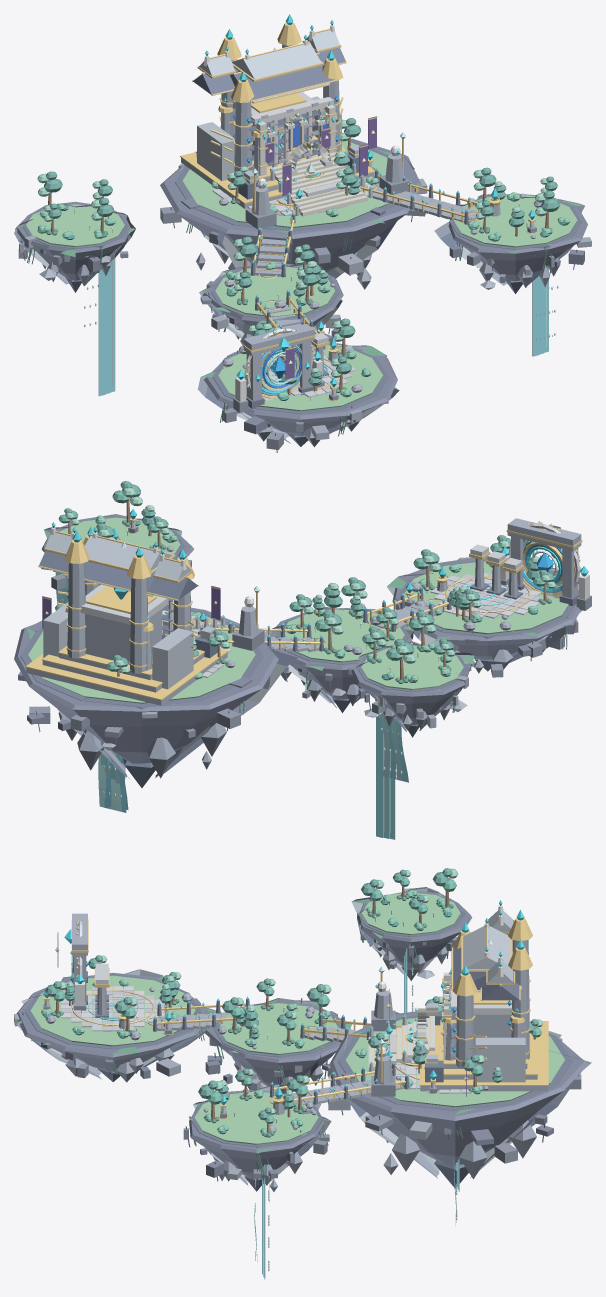
Rendered from SkyGarden_V3_Yup_Mobile.glb.
3 views of the same model, one above another, from view 1: azimuth 30°, elevation 25°; view 2: azimuth 150°, elevation 25°; view 3: azimuth 270°, elevation 25° (orthographic). The views are drawn at different scales.
Visible parts, largest first — view 1: V3_rock, V3_grass, V3_stone, V3_gold, V3_V3_weathered_stone, V3_stone_dark, V3_leaf, V3_V3_pale_travertine, V3_rock_light, V3_water, V3_sandstone_dark, V3_V3_shadow_mortar (+14 smaller); view 2: V3_rock, V3_stone, V3_grass, V3_gold, V3_V3_weathered_stone, V3_stone_dark, V3_V3_cliff_strata, V3_leaf, V3_sandstone_dark, V3_leaf_light, V3_water, V3_stone_light (+18 smaller); view 3: V3_rock, V3_grass, V3_stone, V3_gold, V3_stone_dark, V3_V3_weathered_stone, V3_V3_cliff_strata, V3_leaf, V3_sandstone_dark, V3_rock_light, V3_V3_cliff_depth, V3_stone_light (+14 smaller).
Part boxes in pixels (x1,y1,x2,y2): V3_rock: (15, 138, 587, 436); V3_grass: (26, 141, 577, 411); V3_stone: (181, 44, 500, 400); V3_gold: (180, 22, 537, 401); V3_V3_weathered_stone: (197, 30, 372, 215); V3_stone_dark: (21, 139, 581, 452); V3_leaf: (44, 118, 559, 385); V3_V3_pale_travertine: (71, 25, 542, 397); V3_rock_light: (18, 163, 591, 440); V3_water: (98, 258, 548, 396); V3_sandstone_dark: (40, 167, 554, 449); V3_V3_shadow_mortar: (193, 47, 345, 170); V3_rock: (14, 514, 580, 763); V3_stone: (26, 518, 581, 705); V3_grass: (28, 517, 568, 703); V3_gold: (25, 518, 582, 700); V3_V3_weathered_stone: (43, 532, 225, 689); V3_stone_dark: (20, 517, 578, 742); V3_V3_cliff_strata: (44, 518, 565, 778); V3_leaf: (55, 481, 554, 667); V3_sandstone_dark: (29, 526, 591, 738); V3_leaf_light: (65, 487, 555, 673); V3_water: (61, 573, 408, 839); V3_stone_light: (80, 521, 535, 677); V3_rock: (16, 891, 588, 1178); V3_grass: (30, 892, 564, 1144); V3_stone: (72, 913, 547, 1114); V3_gold: (41, 918, 548, 1118); V3_stone_dark: (22, 893, 572, 1185); V3_V3_weathered_stone: (369, 911, 525, 1082); V3_V3_cliff_strata: (16, 888, 581, 1185); V3_leaf: (45, 868, 538, 1120); V3_sandstone_dark: (43, 937, 581, 1178); V3_rock_light: (14, 888, 562, 1191); V3_V3_cliff_depth: (23, 897, 587, 1191); V3_stone_light: (44, 963, 512, 1113).
Size of the model in its own units: 50.89 by 29.12 by 52.35.
